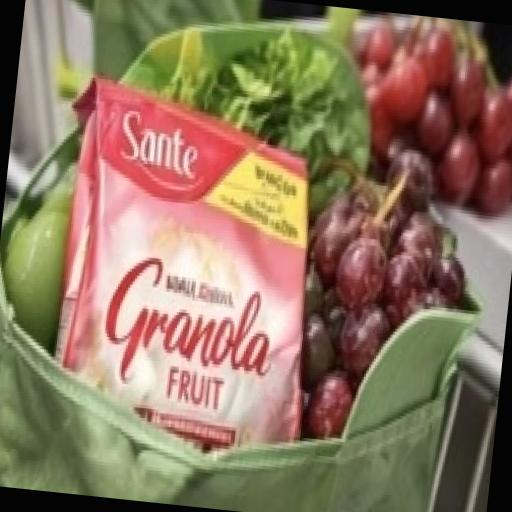granola: (27, 56, 354, 506)
